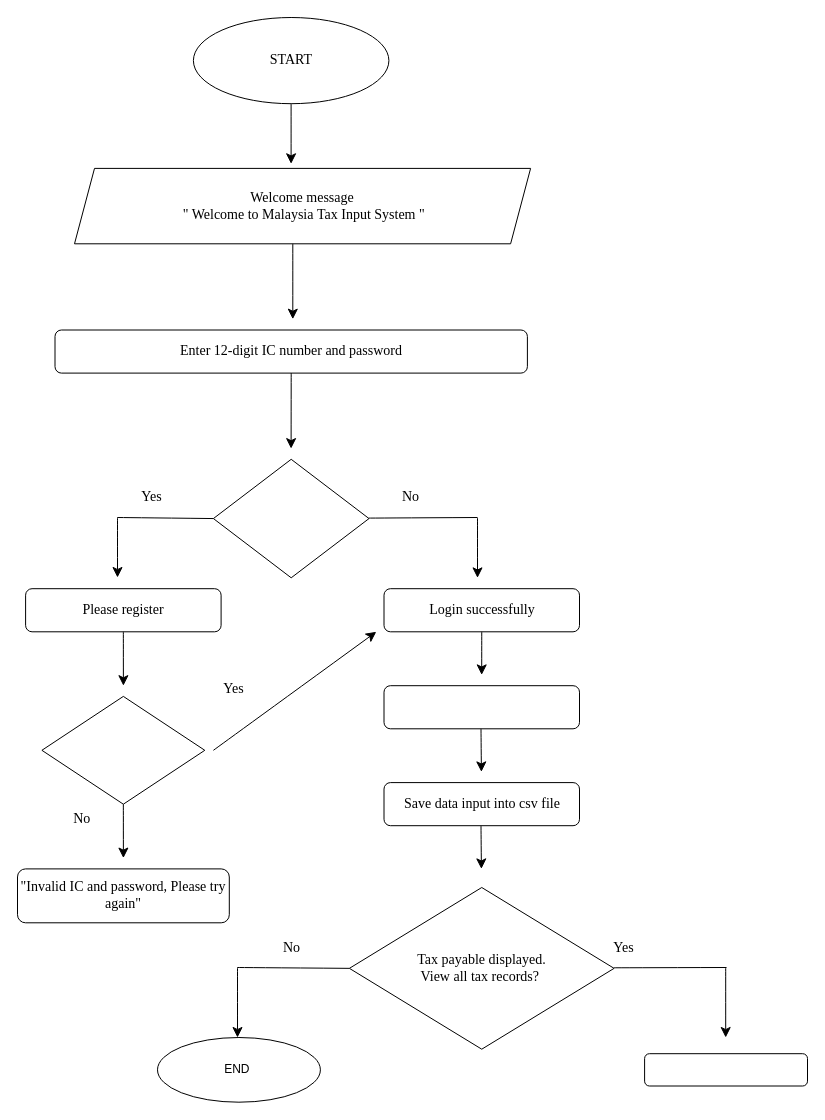
The diagram is 825 pixels wide and 1120 high, and some of its shapes have lost their labels. Each missing label, with the centre of its shape:
Display tax records: (x=726, y=1069)
Enter annual income and tax relief: (x=481, y=707)
Is user registered?: (x=290, y=518)
Register IC and password: (x=123, y=749)
